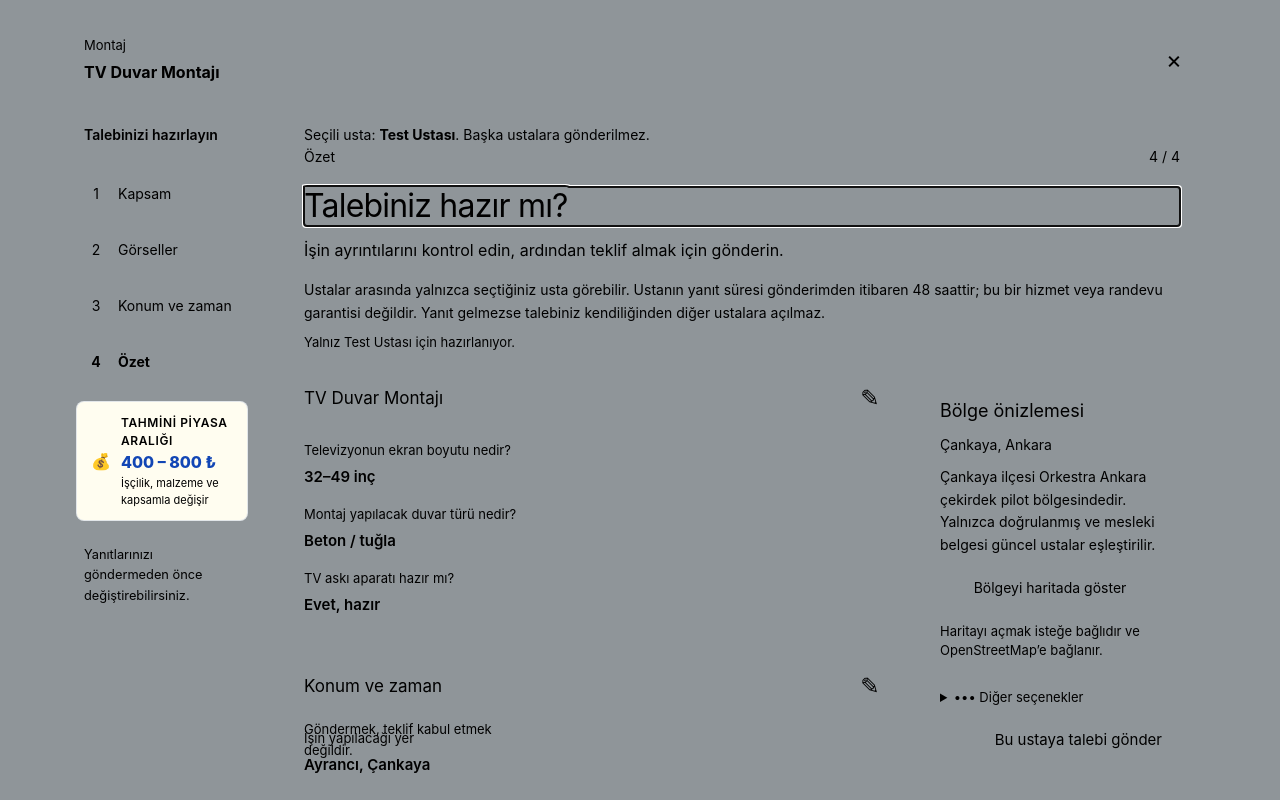
Scenario: requires an explicit final confirmation from a signed-in member before publishing
Click the button "Bu ustaya talebi gönder" at (1078, 740), box [977,716,1180,764]
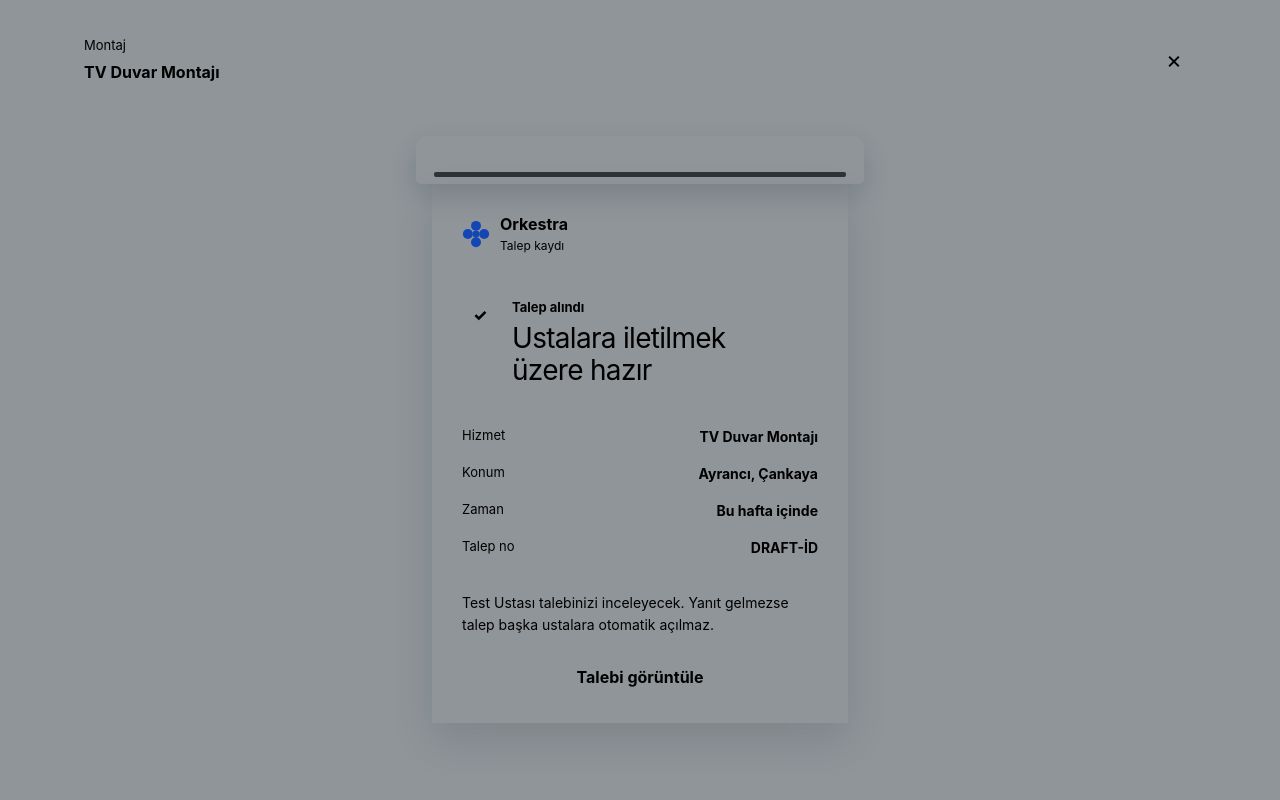
Result: the heading "Ustalara iletilmek üzere hazır" is shown at [512,320,726,387]
